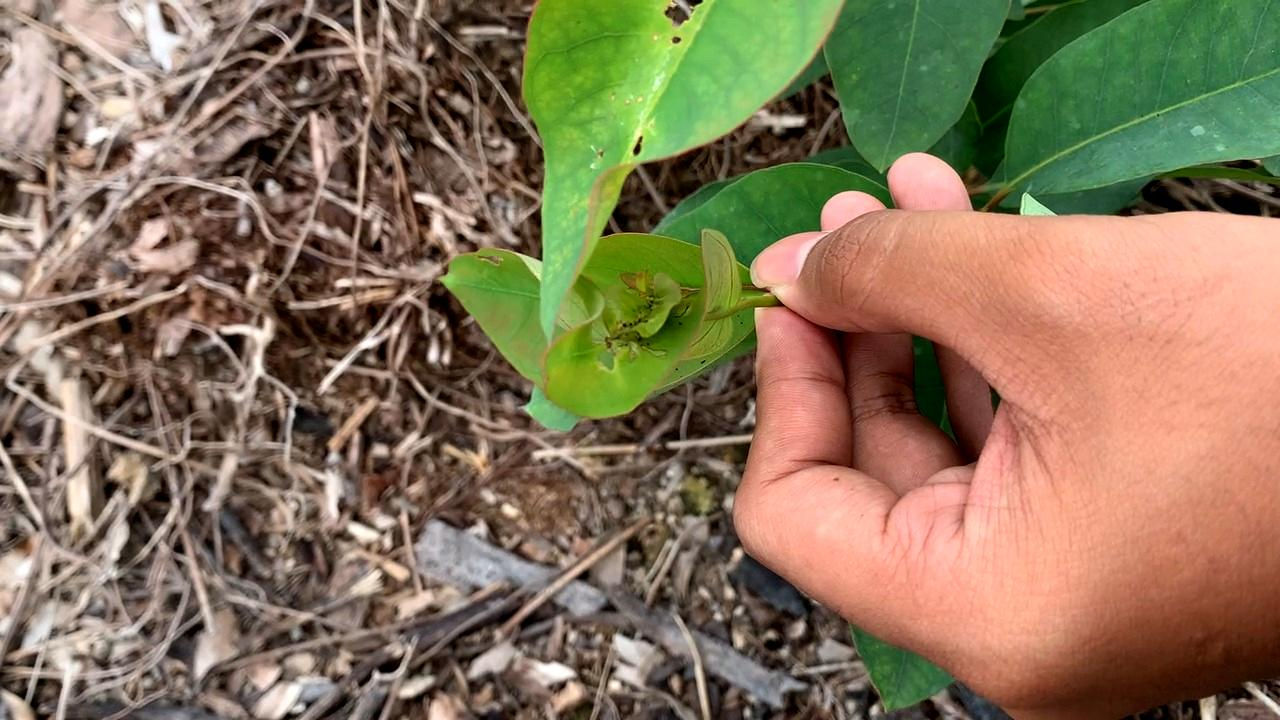Leaf Roller - Leaf: (593, 280, 692, 344)
